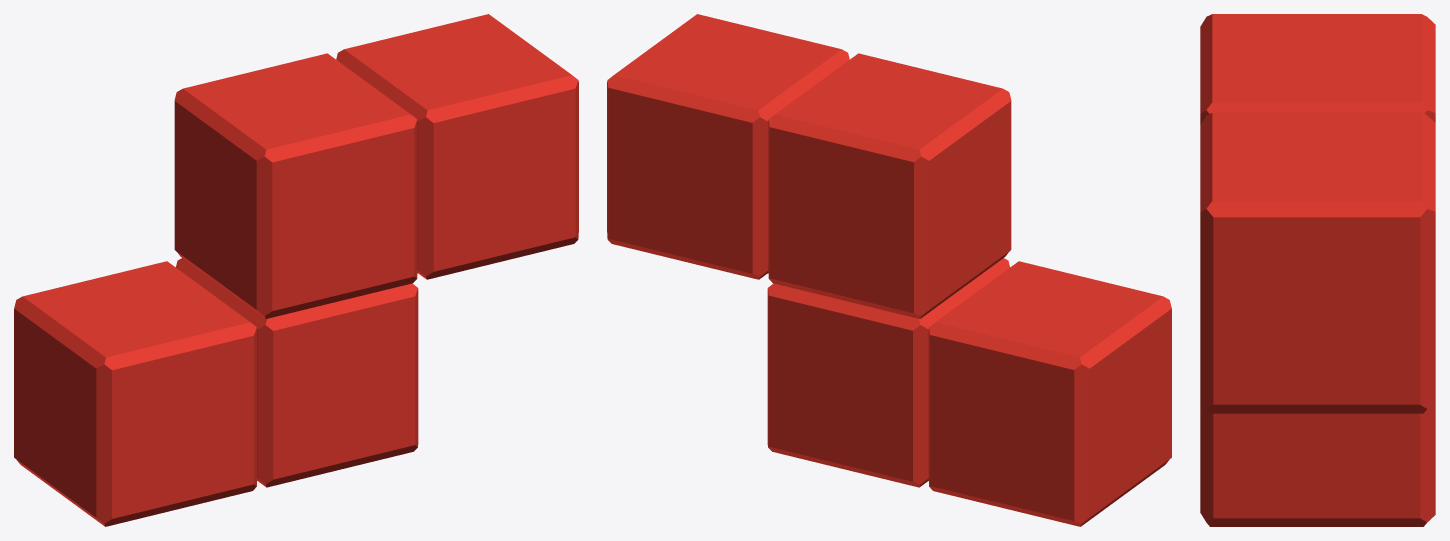
File: pieza3.fbx
3 views of the same model, side by side, from view 1: azimuth 30°, elevation 25°; view 2: azimuth 150°, elevation 25°; view 3: azimuth 270°, elevation 25° (orthographic). The views are drawn at different scales.
Parts seen in each view (by area): view 1: Cube.003, Cube.001, Cube.002, Cube; view 2: Cube.003, Cube.001, Cube.002, Cube; view 3: Cube.002, Cube, Cube.003.
Boxes of the visible parts, bbox=[...] form: Cube.003: bbox=[174, 53, 417, 318]; Cube.001: bbox=[14, 261, 257, 526]; Cube.002: bbox=[336, 14, 578, 279]; Cube: bbox=[175, 258, 418, 487]; Cube.003: bbox=[768, 53, 1011, 318]; Cube.001: bbox=[928, 261, 1171, 526]; Cube.002: bbox=[607, 14, 849, 279]; Cube: bbox=[767, 258, 1010, 487]; Cube.002: bbox=[1200, 112, 1435, 413]; Cube: bbox=[1200, 400, 1435, 526]; Cube.003: bbox=[1200, 14, 1435, 124].
Bounding box in the file's own units: 633 × 423 × 213.
